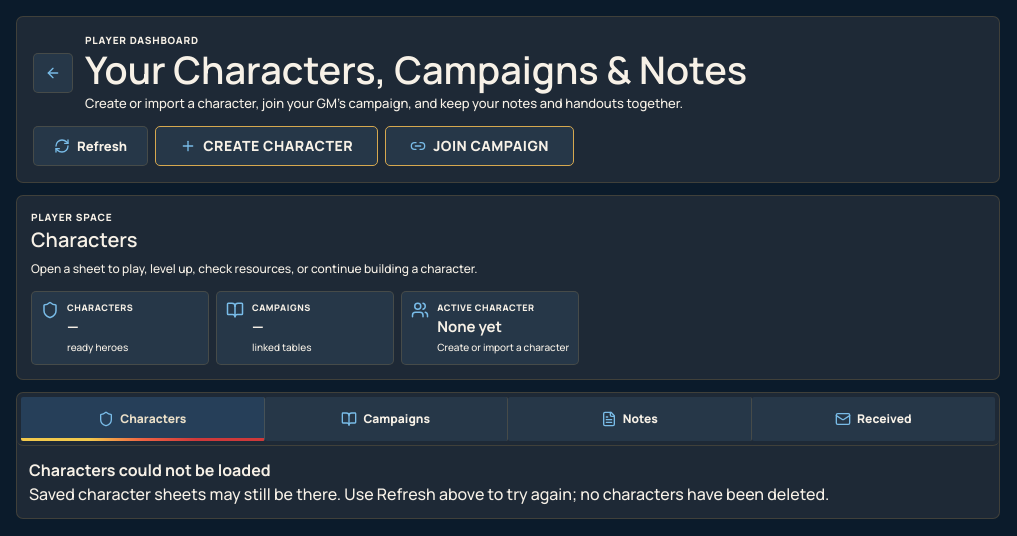
Test: failed first load does not claim saved player sheets and campaigns are empty
This screenshot has width=1017, height=536.
Expected: the text "Characters could not be loaded" is shown, [29,459,271,481]
Press the mouse on the tab "Campaigns" at (386, 419), box [264,397,508,441]
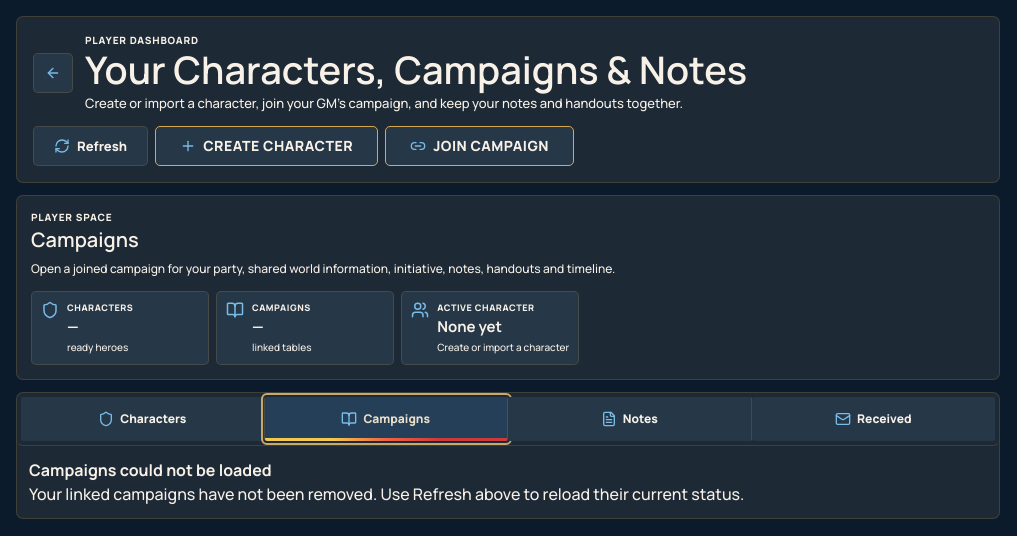
Expected: the text "Campaigns could not be loaded" is shown, [29,459,272,481]
